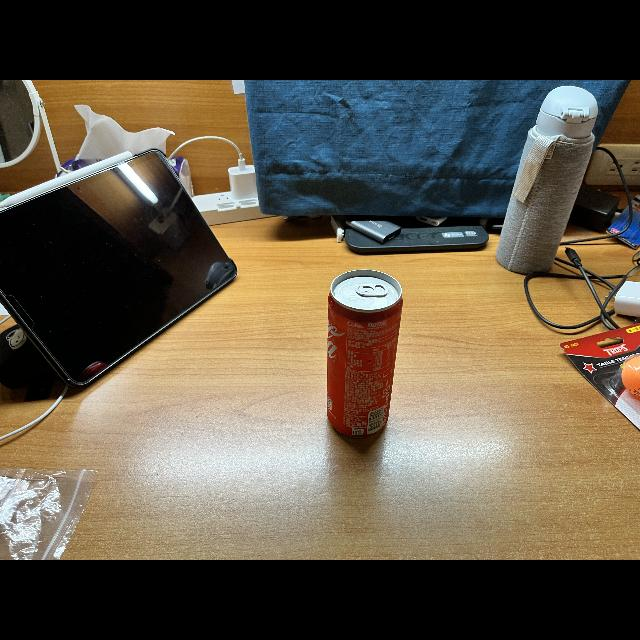can: (324, 267, 406, 448)
